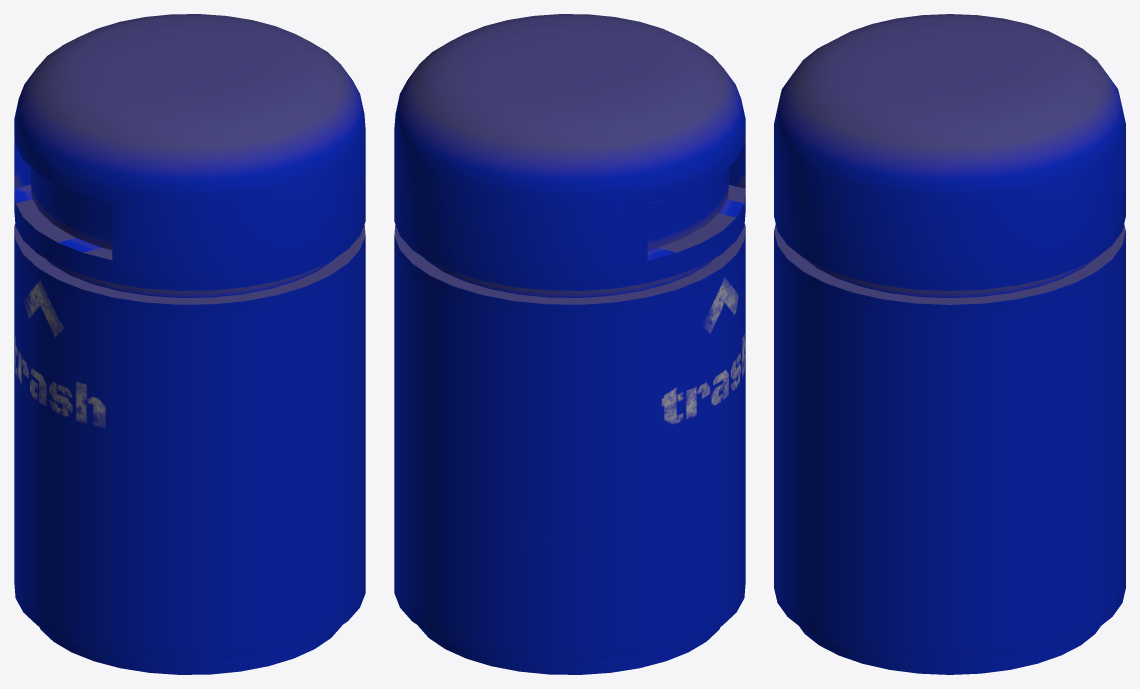
Rendered from Trash_Can.fbx.
3 renders of one model, left to right at view 1: azimuth 30°, elevation 25°; view 2: azimuth 150°, elevation 25°; view 3: azimuth 270°, elevation 25°, orthographic.
Parts seen in each view (by area): view 1: Trash_Can; view 2: Trash_Can; view 3: Trash_Can.
Part boxes in pixels (x1,y1,x2,y2): Trash_Can: (14,14,365,674); Trash_Can: (394,14,745,674); Trash_Can: (774,14,1125,674).
Bounding box in the file's own units: 67.86 × 116 × 67.86.
